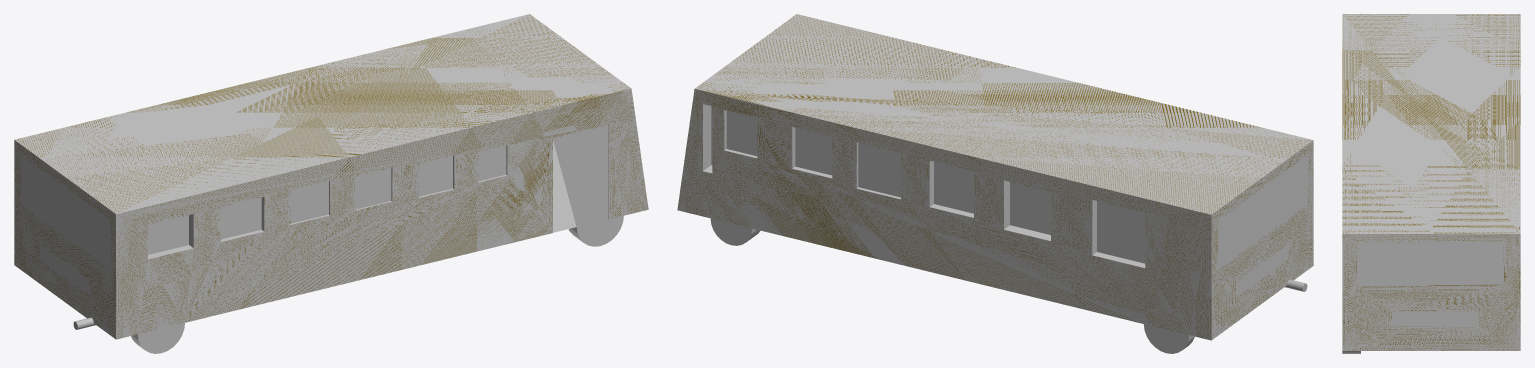
The model's file is bus.obj.
The picture shows the model from 3 angles, left to right: view 1: azimuth 30°, elevation 25°; view 2: azimuth 150°, elevation 25°; view 3: azimuth 270°, elevation 25°; orthographic projection. The views are drawn at different scales.
Size of the model in its own units: 1.91 by 0.4995 by 0.6139.
